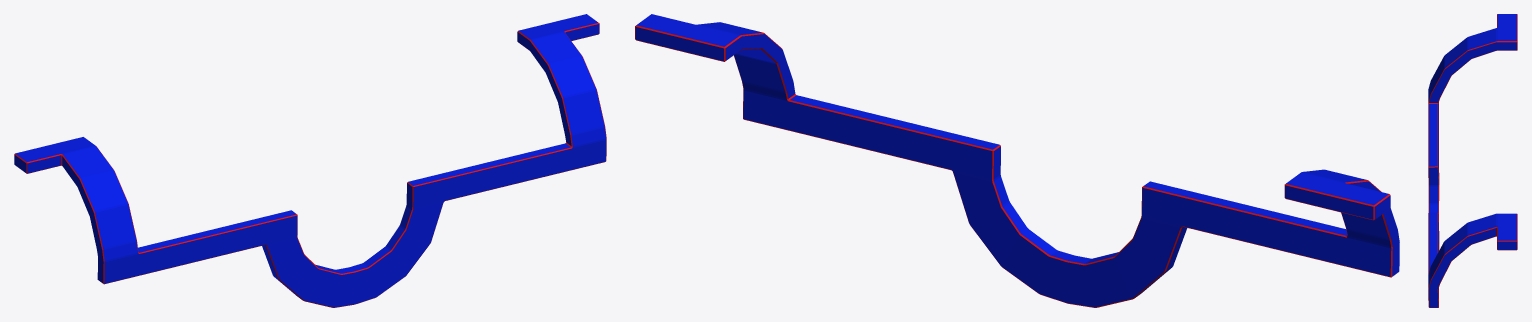
The model's file is L8_Cross_Pipe.fbx.
3 renders of one model, left to right at view 1: azimuth 30°, elevation 25°; view 2: azimuth 150°, elevation 25°; view 3: azimuth 270°, elevation 25°, orthographic. The views are drawn at different scales.
Parts seen in each view (by area): view 1: L8_Cross_Pipe; view 2: L8_Cross_Pipe; view 3: L8_Cross_Pipe.
Part boxes in pixels (x1,y1,x2,y2): L8_Cross_Pipe: (14, 14, 606, 307); L8_Cross_Pipe: (635, 14, 1399, 307); L8_Cross_Pipe: (1428, 14, 1517, 307).
Size of the model in its own units: 1800 by 544 by 300.
